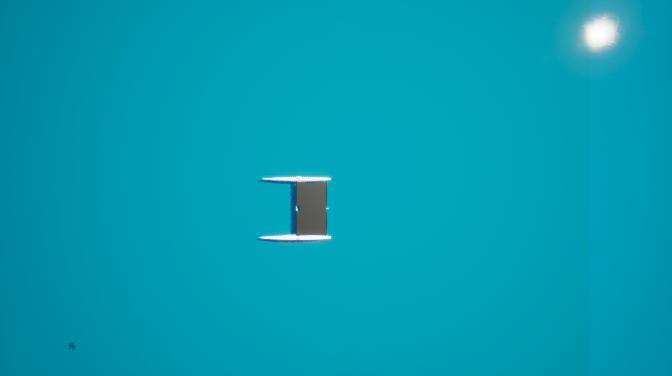boat: (259, 173, 334, 244)
drone: (66, 339, 79, 353)
land_base: (297, 184, 327, 234)
light_reflex: (568, 1, 636, 66)
